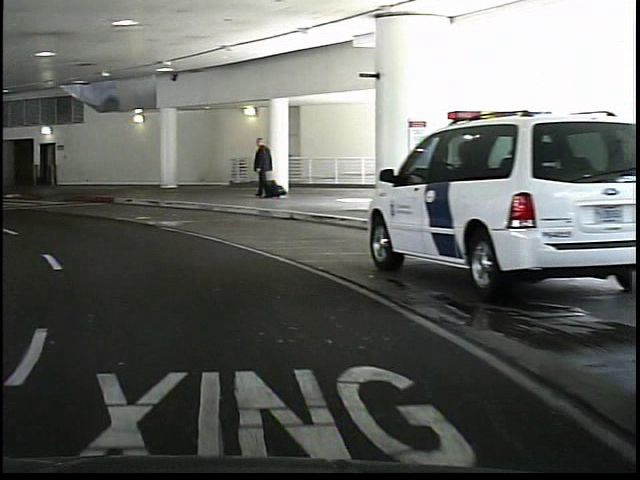person: (245, 134, 271, 202)
